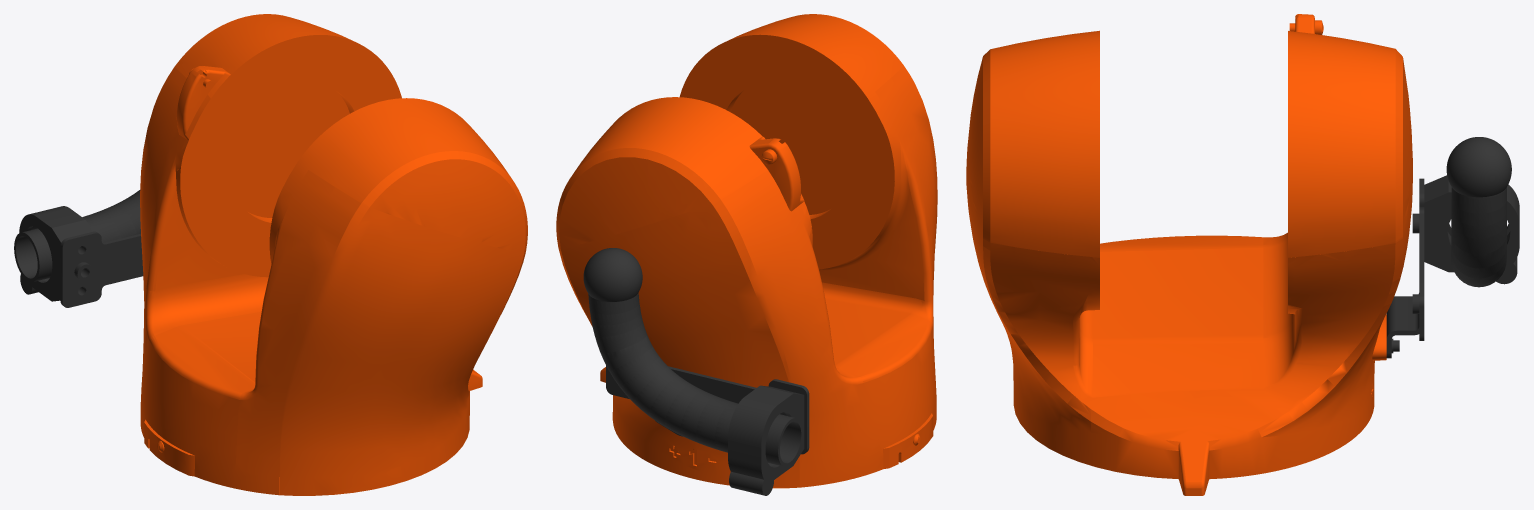
3 views of the same model, side by side, from view 1: azimuth 30°, elevation 25°; view 2: azimuth 150°, elevation 25°; view 3: azimuth 270°, elevation 25° (orthographic). The views are drawn at different scales.
Visible parts, largest first — view 1: link_1; view 2: link_1; view 3: link_1.
Boxes of the visible parts, bbox=[...] form: link_1: bbox=[14, 14, 527, 495]; link_1: bbox=[556, 14, 937, 495]; link_1: bbox=[966, 14, 1519, 495].
Bounding box in the file's own units: 0.2464 × 0.339 × 0.2653.
